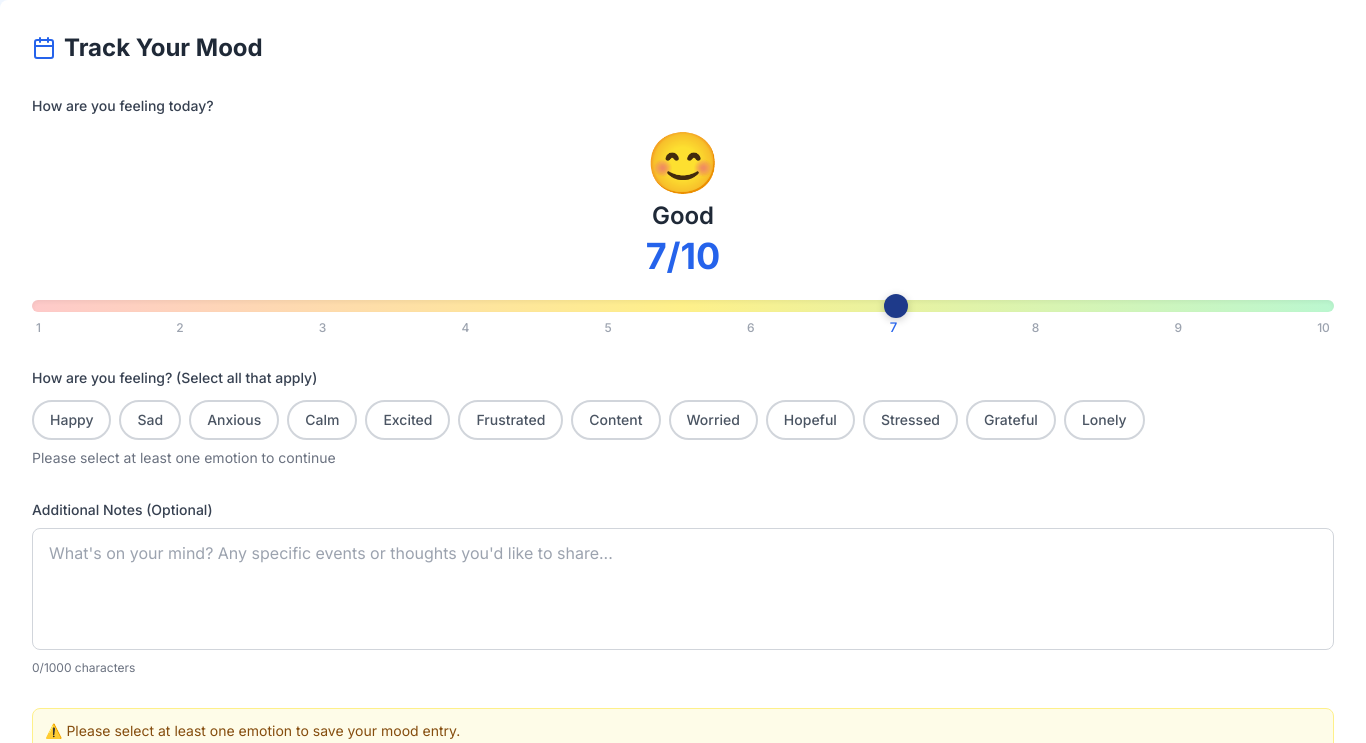
Test: ClientView Component › saves mood entry to localStorage
This screenshot has width=1366, height=743.
# Select emotion
Click the checkbox "Happy": (72, 420) [32,400,112,440]
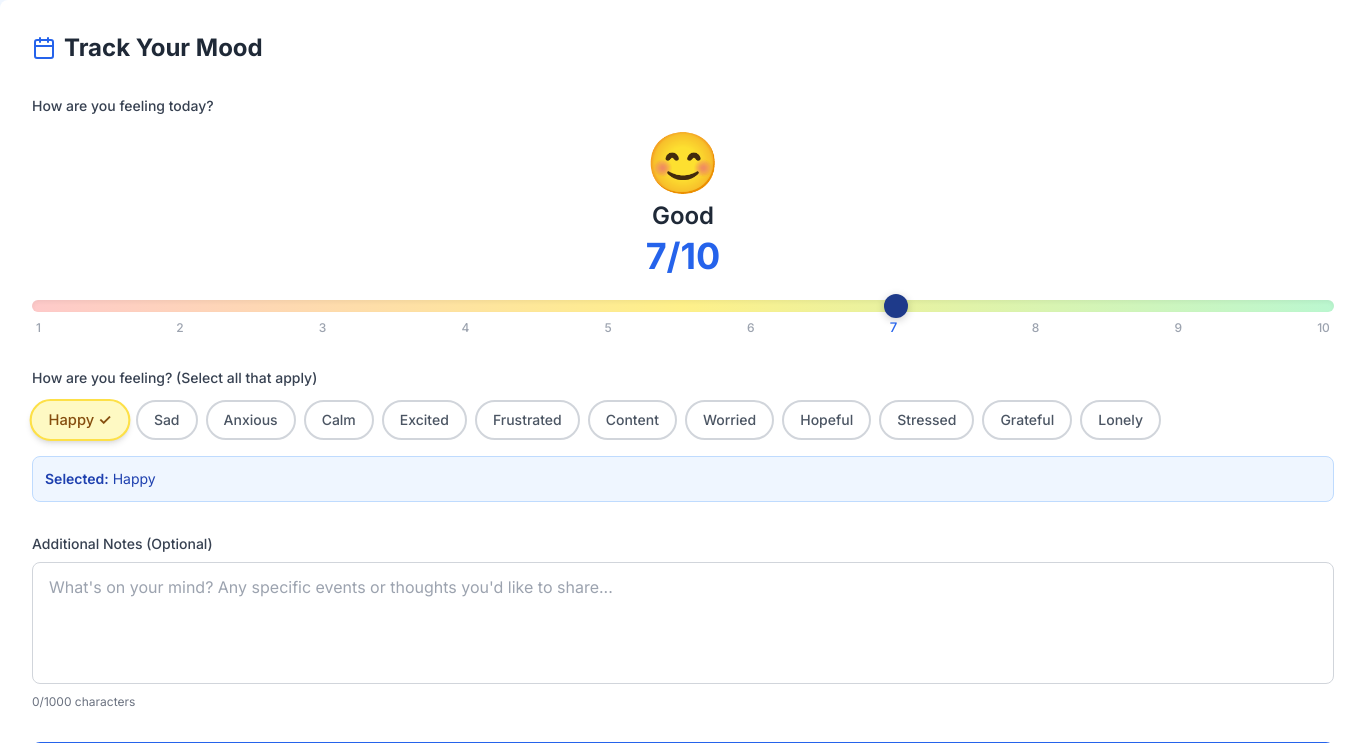
# Add notes
Replace the text in the text box with placeholder "What's on your mind" with "Feeling great today!": (683, 623) [32,562,1334,684]
(page scrolled)
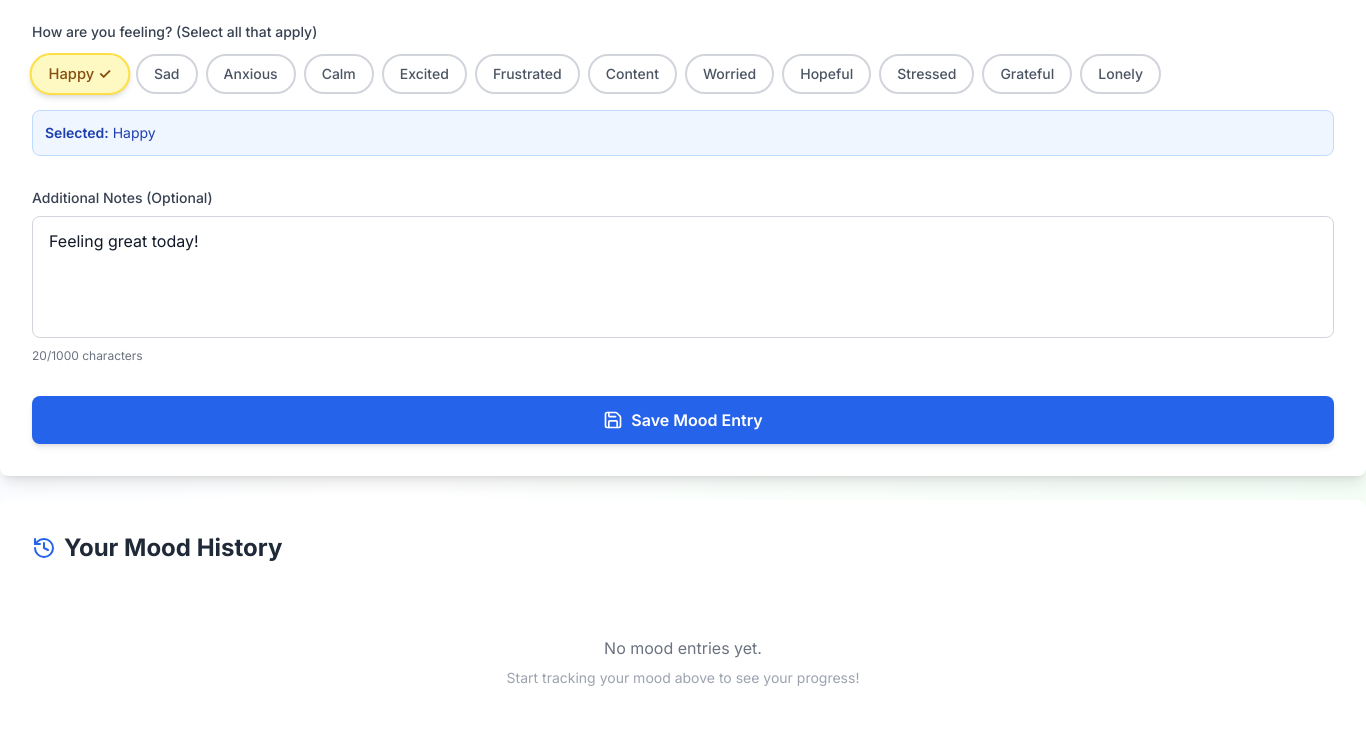
Click the button "Save Mood Entry": (683, 420) [32,396,1334,444]
(page scrolled)
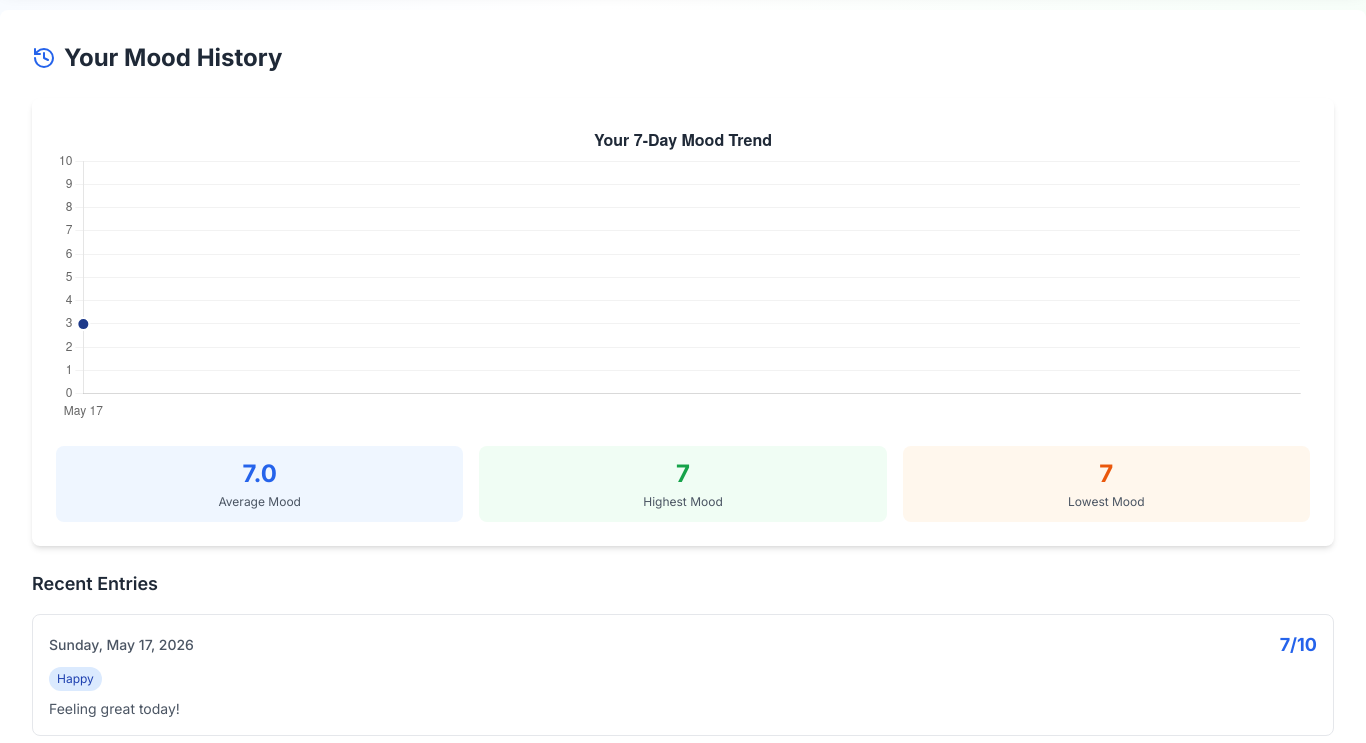
Expected: the text "Feeling great today!" is shown, [49,700,180,717]
